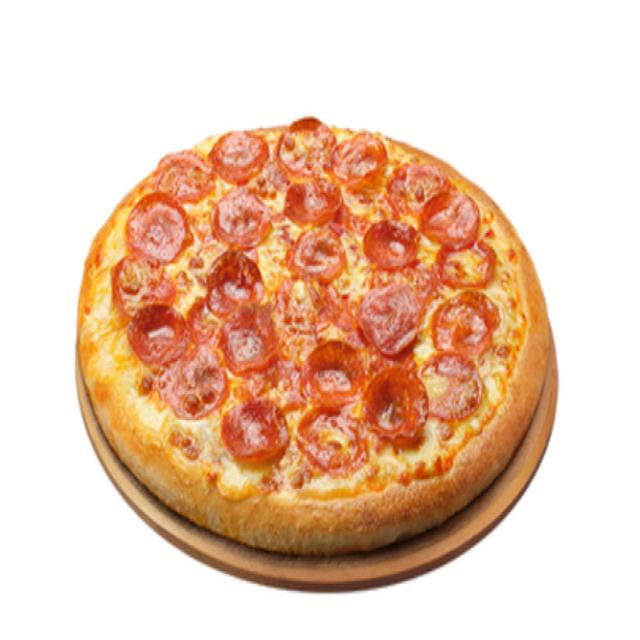Pepperoni Pizza: (100, 193, 362, 462)
